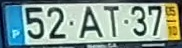2: (45, 5, 67, 40)
3: (129, 4, 148, 37)
5: (23, 6, 45, 40)
7: (147, 5, 162, 37)
A: (77, 4, 104, 39)
T: (102, 4, 120, 38)
